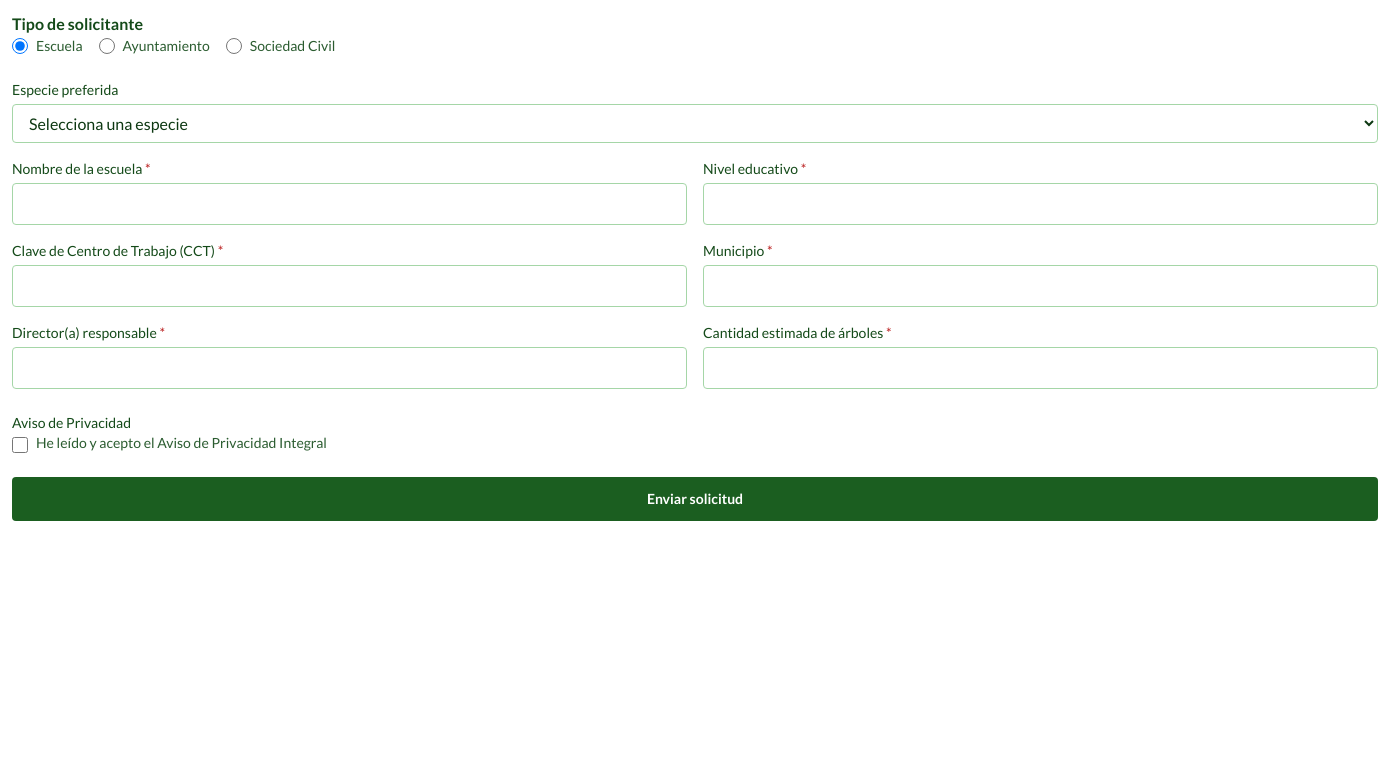
RequestForm › cambia los campos al seleccionar sociedad civil
Click the radio button labelled "Sociedad Civil" at [234, 46], box [226,38,242,54]
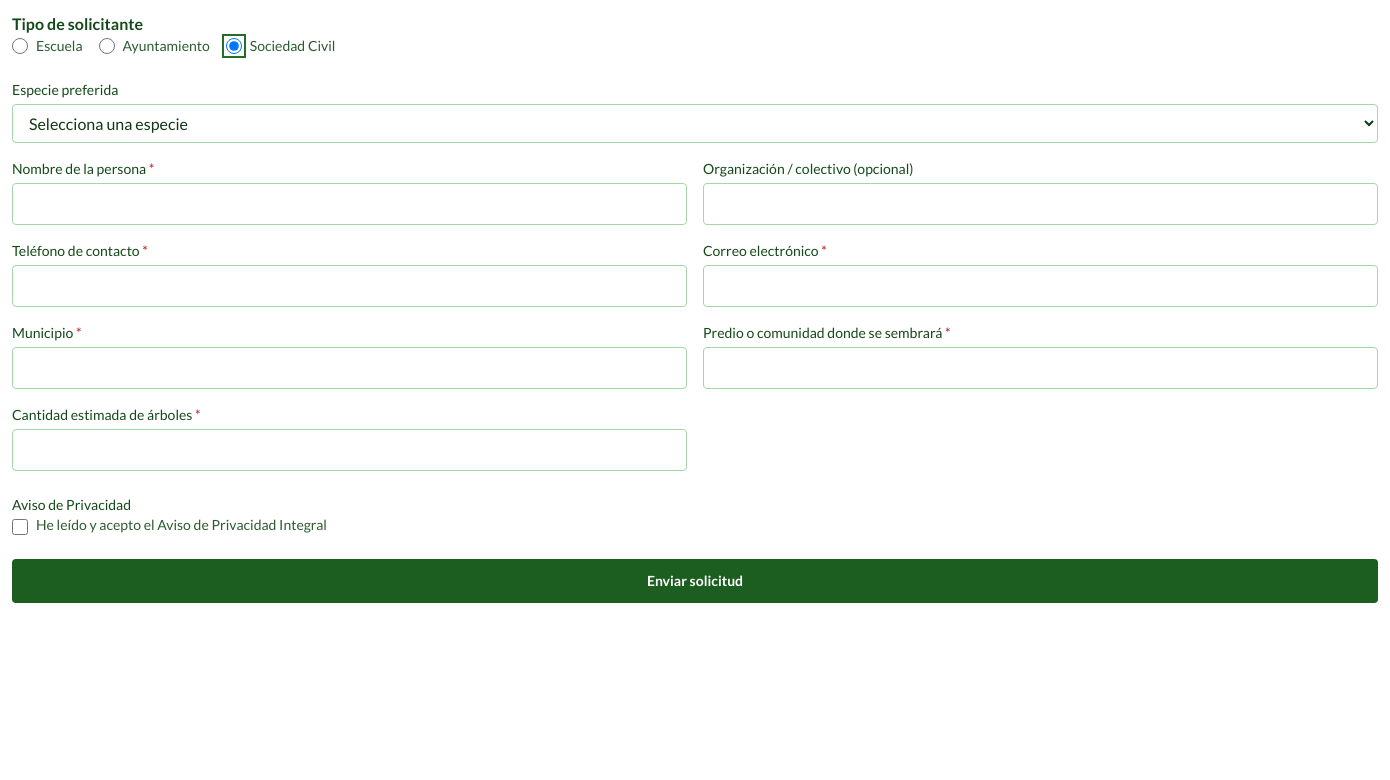
Check: the field labelled "Nombre de la persona *" is shown, box [12,183,687,225]
Check: the label labelled "Nombre de la escuela" is gone
